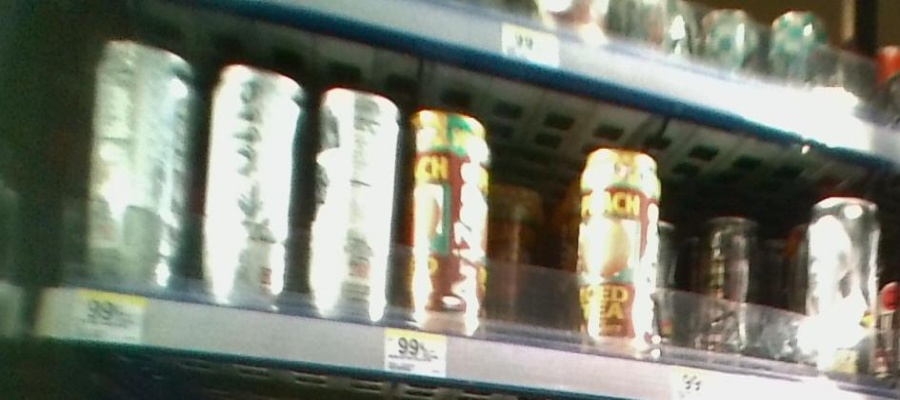bottle: (83, 27, 196, 298), (200, 41, 302, 315), (310, 62, 403, 331), (408, 93, 489, 344), (578, 137, 663, 359), (805, 193, 882, 376), (695, 212, 761, 363), (491, 171, 548, 345)
